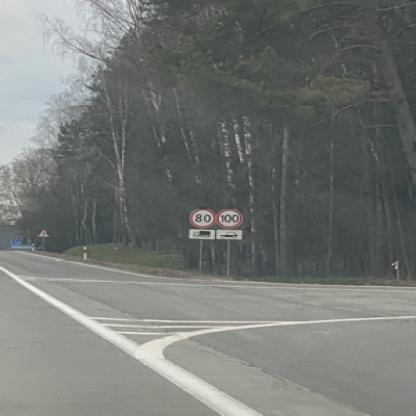speedlimit: (215, 208, 241, 228), (187, 207, 214, 226)
